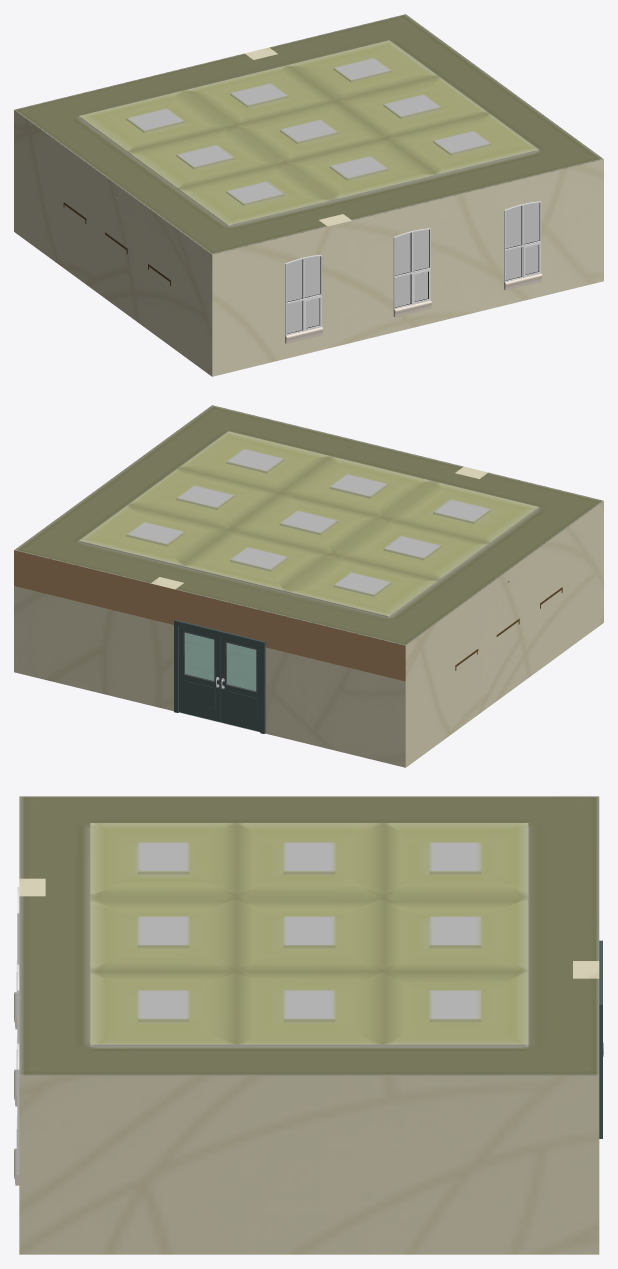
The model's file is music_room.glb.
The picture shows the model from 3 angles, top to bottom: view 1: azimuth 30°, elevation 25°; view 2: azimuth 150°, elevation 25°; view 3: azimuth 270°, elevation 25°; orthographic projection. The views are drawn at different scales.
Parts seen in each view (by area): view 1: Room_Ceiling 2_0, Room_Wall_0, Room_Plastic_0; view 2: Room_Ceiling 2_0, Room_Wall_0, Room_Plastic_0, Room_Floor_0, Door_DoorGlass_material_0; view 3: Room_Ceiling 2_0, Room_Wall_0, Room_Plastic_0.
Boxes of the visible parts, box(x1,y1,x2,y2) form: Room_Ceiling 2_0: box(14, 14, 603, 254); Room_Wall_0: box(14, 47, 603, 376); Room_Plastic_0: box(63, 75, 542, 343); Room_Ceiling 2_0: box(14, 405, 603, 645); Room_Wall_0: box(14, 466, 603, 767); Room_Plastic_0: box(14, 550, 562, 733); Room_Floor_0: box(179, 632, 259, 731); Door_DoorGlass_material_0: box(184, 632, 255, 691); Room_Ceiling 2_0: box(19, 796, 599, 1075); Room_Wall_0: box(19, 878, 599, 1254); Room_Plastic_0: box(14, 887, 603, 1185).
Bounding box in the file's own units: 9.41 × 2.88 × 8.38.
14 materials, 14 textured.
